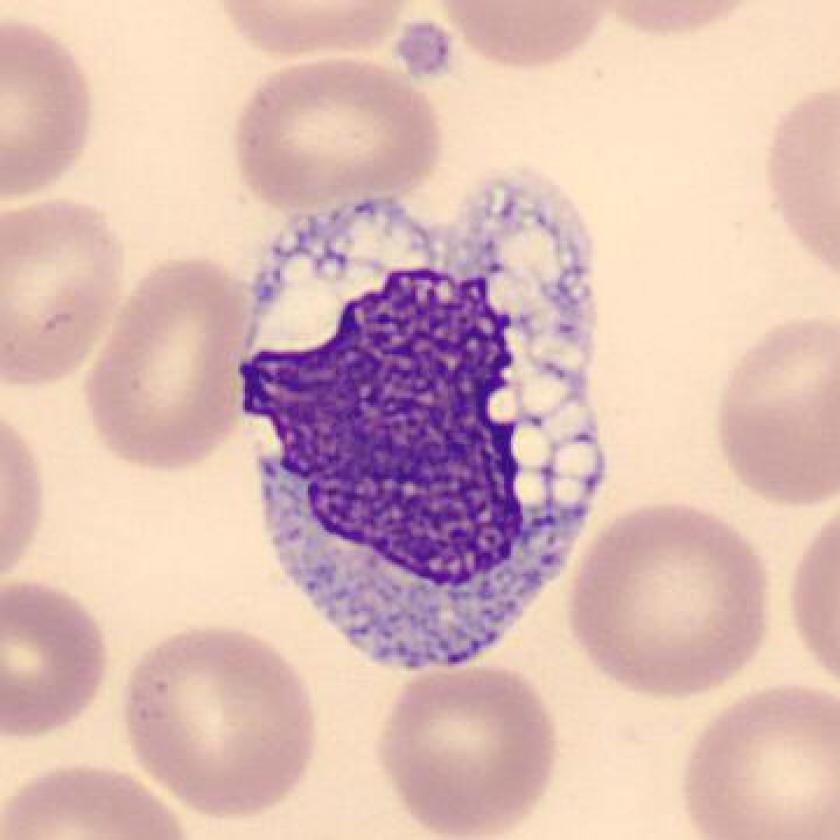monocyte: (223, 161, 629, 681)
